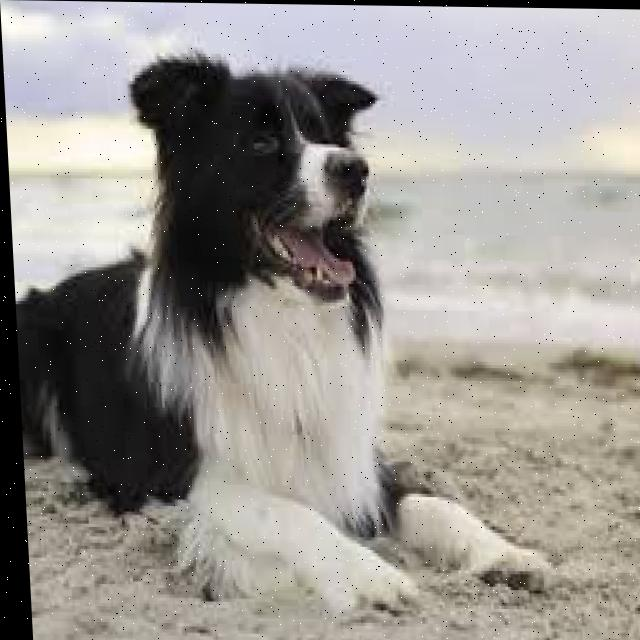ALASKAN_MALAMUTE: (2, 38, 567, 611)
